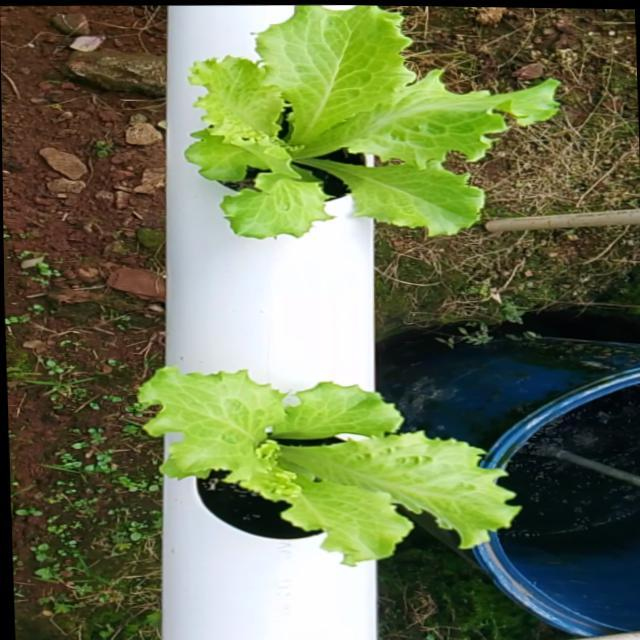Baby: (188, 5, 560, 245), (141, 379, 527, 579)
